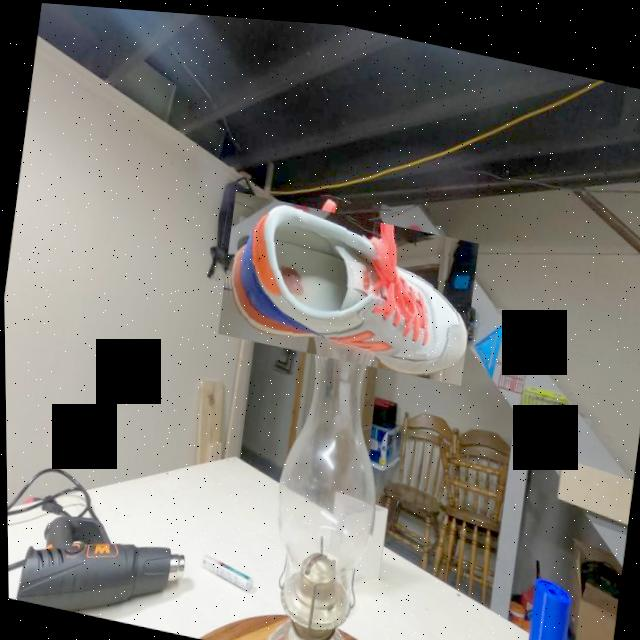shoe: (215, 187, 480, 380)
